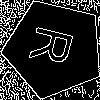R: (29, 23, 83, 70)
